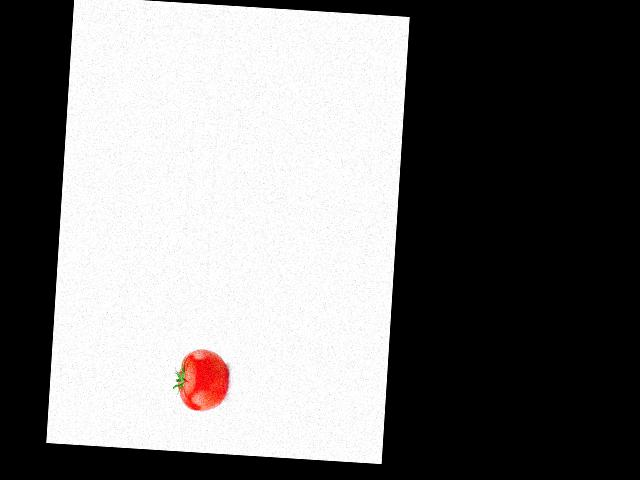tomato: (176, 348, 228, 413)
